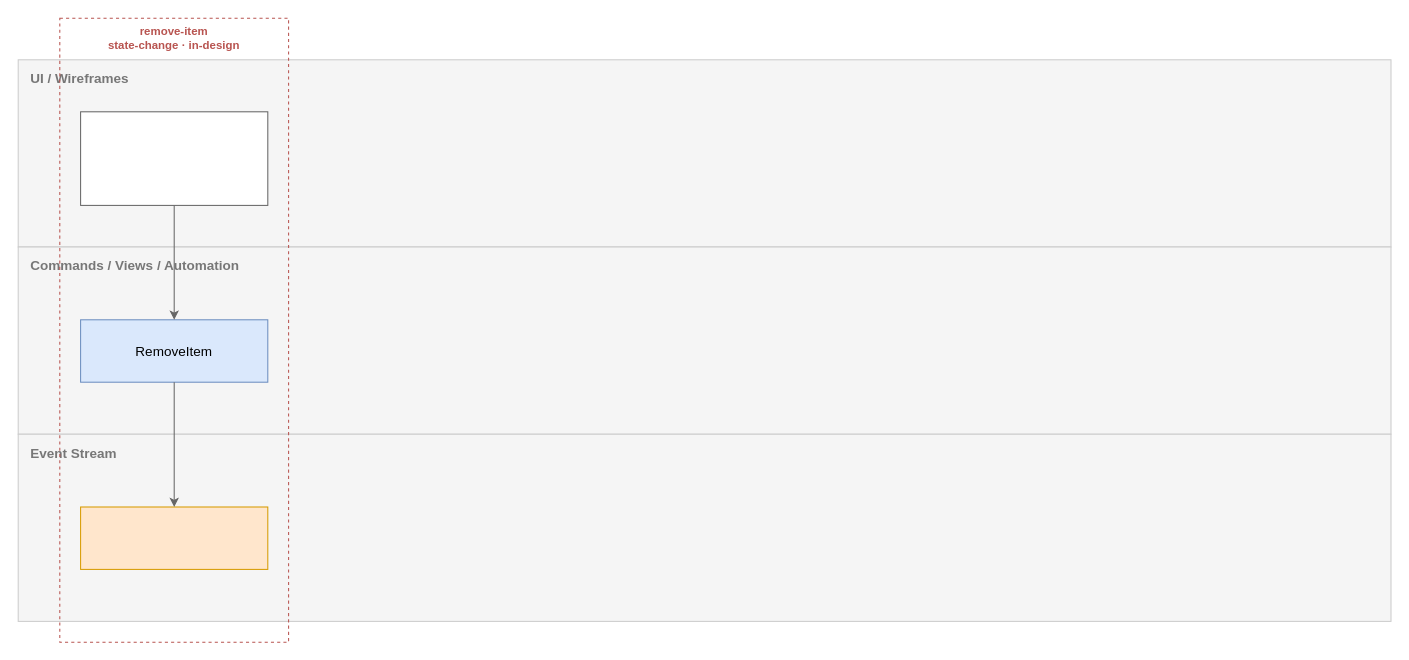
This 1409x660 diagram has some shape labels left out. The centre of each missing label's shape, as x and y in pixels:
"Cart Page" belongs at point 174,158.
"ItemRemoved" belongs at point 174,537.
